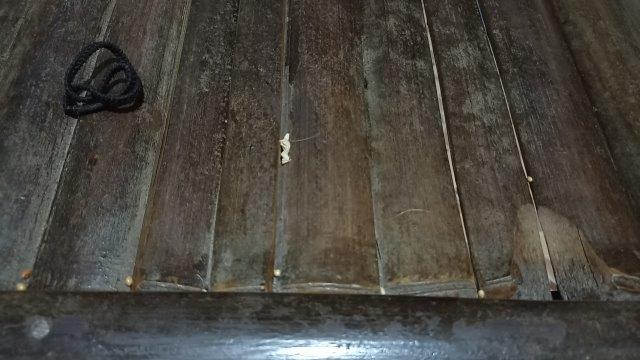karet: (62, 42, 143, 116)
